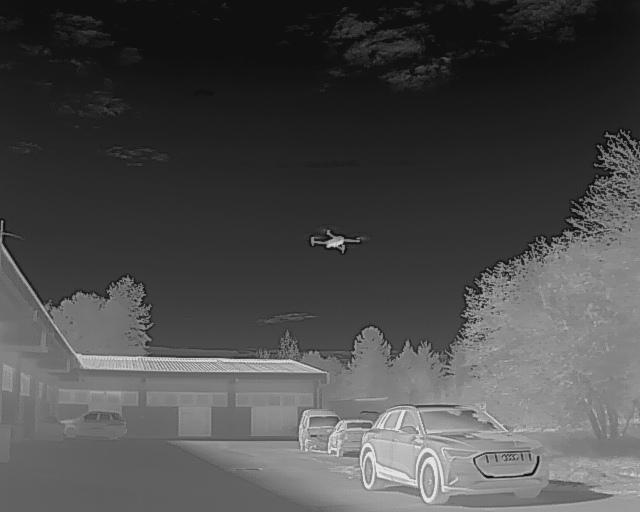drone: (298, 227, 369, 255)
